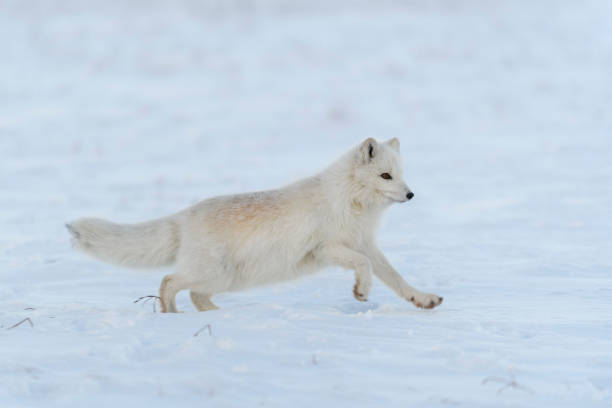arcticfox: (354, 138, 423, 228)
